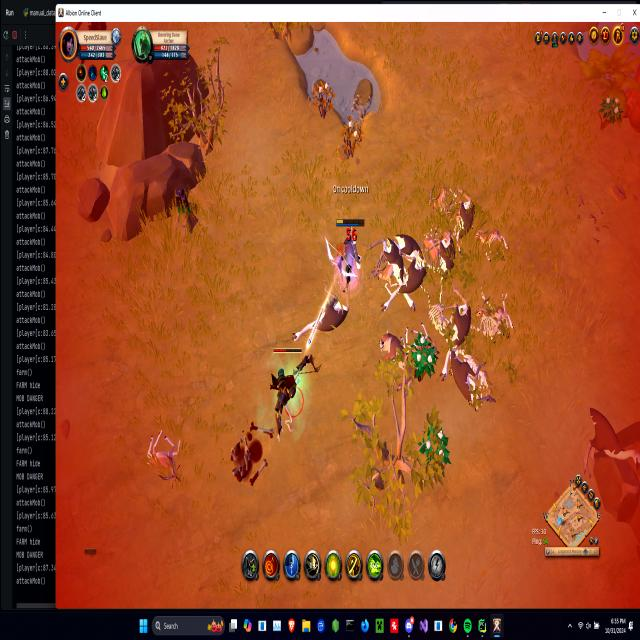hide: (420, 420, 451, 474), (596, 88, 624, 137), (410, 332, 437, 382), (309, 78, 336, 120), (341, 116, 365, 163)
mob: (446, 343, 492, 417), (368, 229, 424, 287), (441, 287, 473, 382), (297, 287, 352, 342), (146, 426, 184, 488), (422, 225, 458, 276), (377, 323, 412, 370), (451, 186, 478, 237)
ore: (576, 390, 640, 488), (268, 344, 309, 429)
player: (167, 170, 198, 236)
red: (334, 214, 364, 286)
